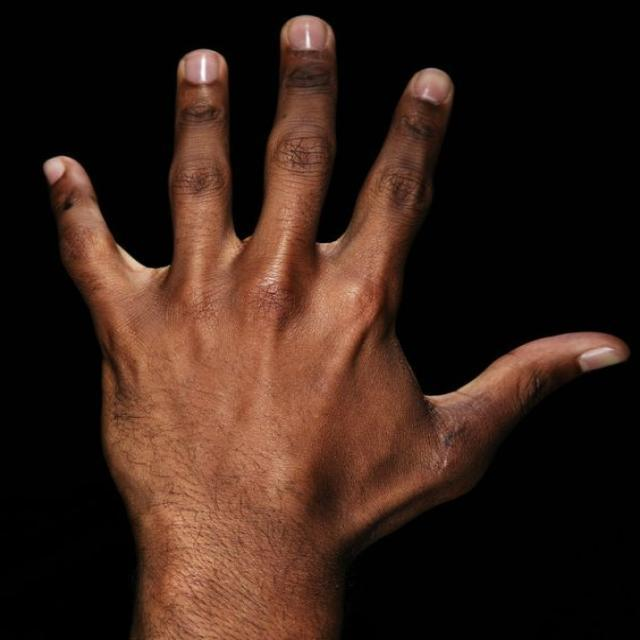Fingernail: (288, 18, 327, 50), (414, 69, 450, 102), (579, 348, 624, 371), (185, 54, 219, 84), (43, 158, 65, 184)
